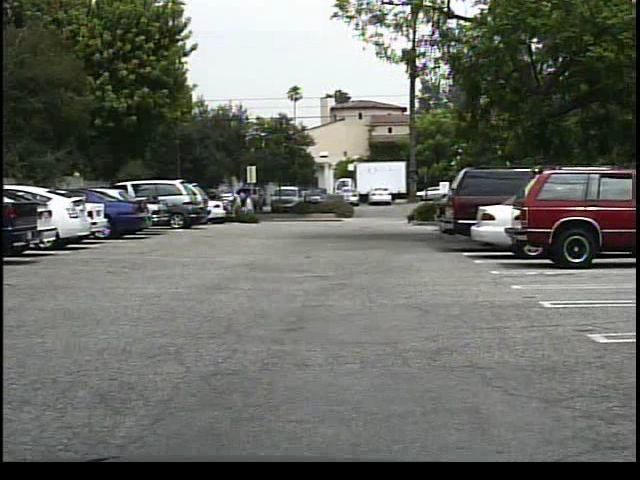person: (229, 187, 244, 219), (243, 191, 258, 219), (241, 187, 252, 218)
